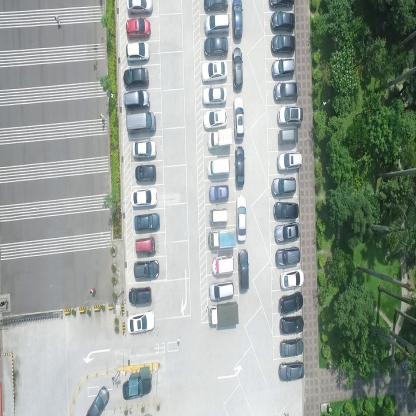car: (208, 299, 240, 326), (122, 374, 152, 401), (84, 386, 110, 416), (126, 110, 156, 136), (127, 309, 156, 335), (207, 223, 235, 248), (200, 59, 228, 83), (277, 104, 303, 129), (274, 222, 301, 245), (276, 151, 303, 174), (130, 186, 158, 208), (123, 88, 151, 110), (236, 194, 248, 245), (206, 127, 232, 150), (279, 267, 305, 290), (274, 246, 301, 268), (278, 360, 305, 382), (210, 253, 235, 276), (203, 107, 228, 130), (209, 280, 235, 302), (271, 176, 297, 198), (204, 14, 230, 36), (203, 35, 229, 57), (278, 291, 304, 313), (272, 80, 298, 102), (270, 34, 296, 56), (270, 10, 296, 32), (233, 95, 245, 142), (206, 155, 230, 178), (271, 56, 295, 79), (128, 284, 153, 306), (126, 18, 151, 40), (134, 211, 160, 232), (123, 66, 149, 87), (279, 336, 305, 357), (238, 249, 250, 294), (273, 201, 300, 221), (133, 259, 160, 279), (232, 44, 243, 92), (125, 41, 150, 62), (132, 138, 157, 158), (202, 86, 227, 106), (280, 314, 304, 334), (134, 163, 157, 183), (231, 0, 243, 38), (278, 127, 299, 148), (235, 145, 245, 188), (209, 183, 230, 203), (135, 235, 157, 254), (126, 0, 152, 15), (209, 206, 228, 226), (203, 0, 229, 12), (268, 0, 295, 8)
